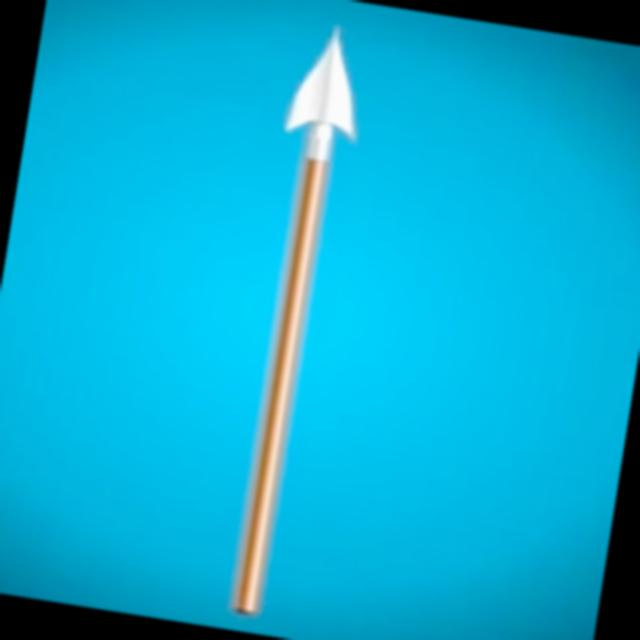spear: (194, 17, 400, 628)
